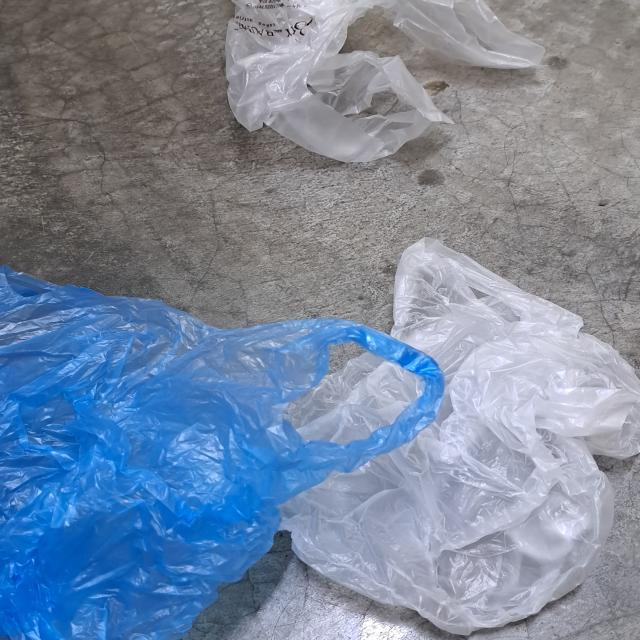plastic bag: (0, 249, 445, 640), (266, 237, 640, 640), (214, 0, 547, 169)
